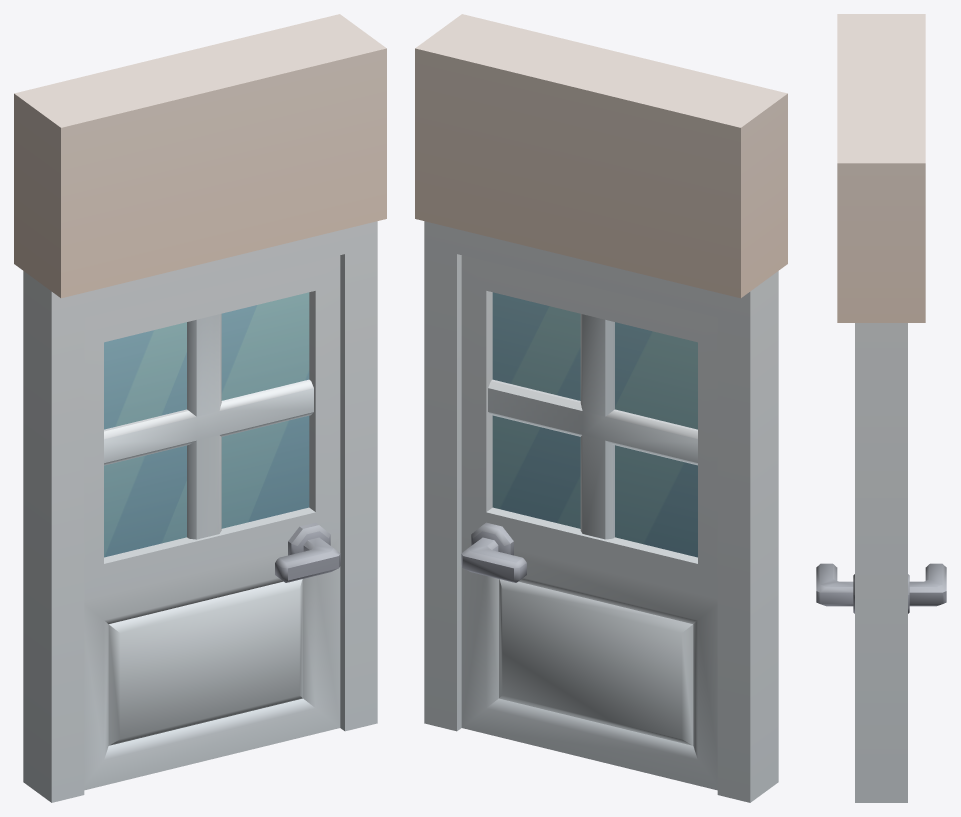
Rendered from Wall Tiles Kitchen.glb.
3 views of the same model, side by side, from view 1: azimuth 30°, elevation 25°; view 2: azimuth 150°, elevation 25°; view 3: azimuth 270°, elevation 25° (orthographic). The views are drawn at different scales.
Parts seen in each view (by area): view 1: wall_tiles_kitchen_doorway, wall_tiles_kitchen_door; view 2: wall_tiles_kitchen_doorway, wall_tiles_kitchen_door; view 3: wall_tiles_kitchen_doorway, wall_tiles_kitchen_door.
Part boxes in pixels (x1=…): wall_tiles_kitchen_doorway: x1=14, y1=14, x2=386, y2=802; wall_tiles_kitchen_door: x1=84, y1=255, x2=340, y2=790; wall_tiles_kitchen_doorway: x1=415, y1=14, x2=787, y2=802; wall_tiles_kitchen_door: x1=461, y1=255, x2=717, y2=790; wall_tiles_kitchen_doorway: x1=837, y1=14, x2=925, y2=802; wall_tiles_kitchen_door: x1=816, y1=563, x2=946, y2=613.
Bounding box in the file's own units: 2 × 4 × 0.74.
2 materials, 2 textured.
